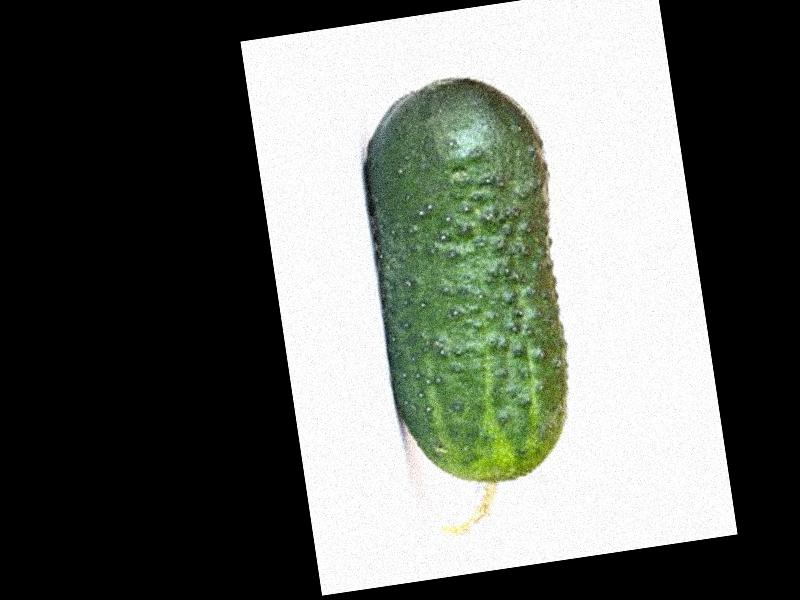Cucumber: (349, 68, 601, 542)
